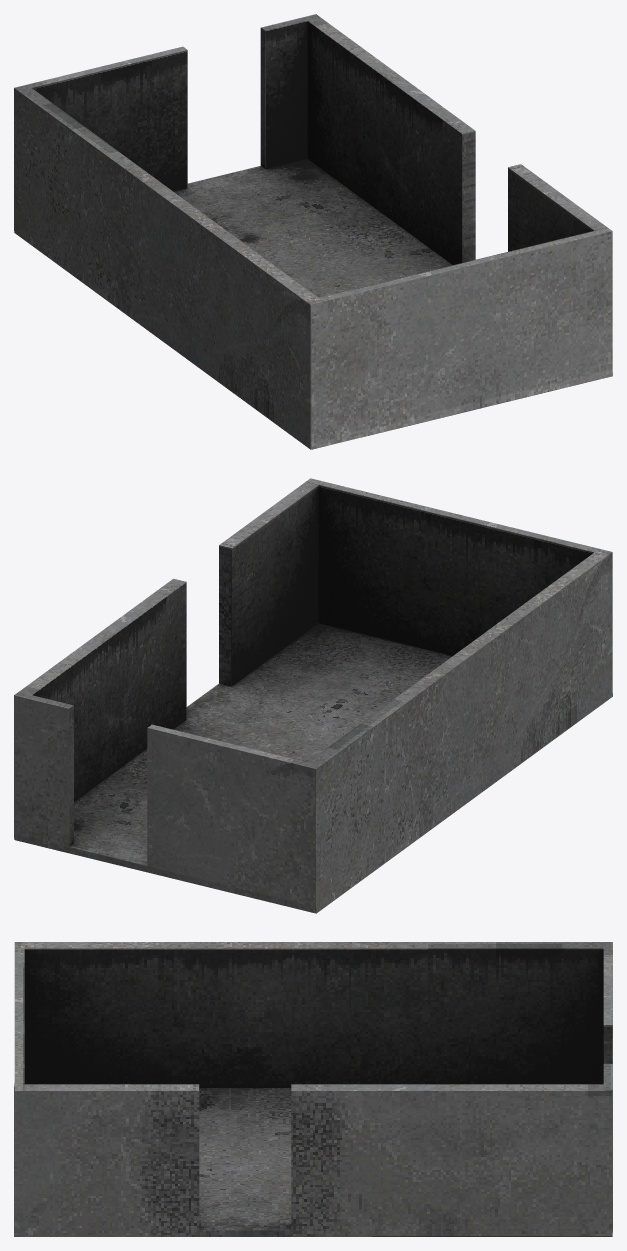
The model's file is PodvalRoom1.glb.
The picture shows the model from 3 angles, top to bottom: view 1: azimuth 30°, elevation 25°; view 2: azimuth 150°, elevation 25°; view 3: azimuth 270°, elevation 25°; orthographic projection.
Visible parts, largest first — view 1: Room; view 2: Room; view 3: Room.
Part boxes in pixels (x1,y1,x2,y2): Room: [14, 14, 612, 449]; Room: [14, 478, 612, 913]; Room: [14, 942, 612, 1236].
Size of the model in its own units: 20.22 by 9.26 by 34.41.
Materials: 1 (1 with a texture image).
